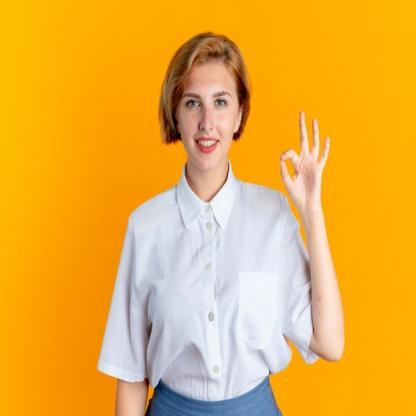ok: (276, 108, 333, 214)
